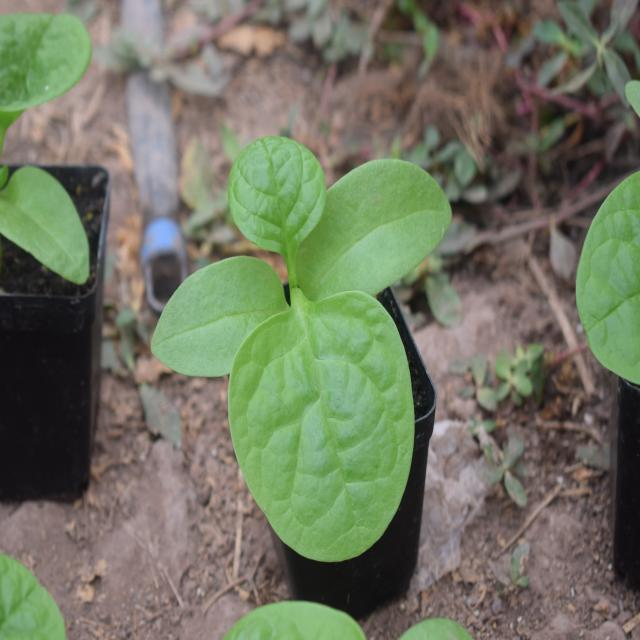Ceylon spinach: (148, 133, 441, 563)
